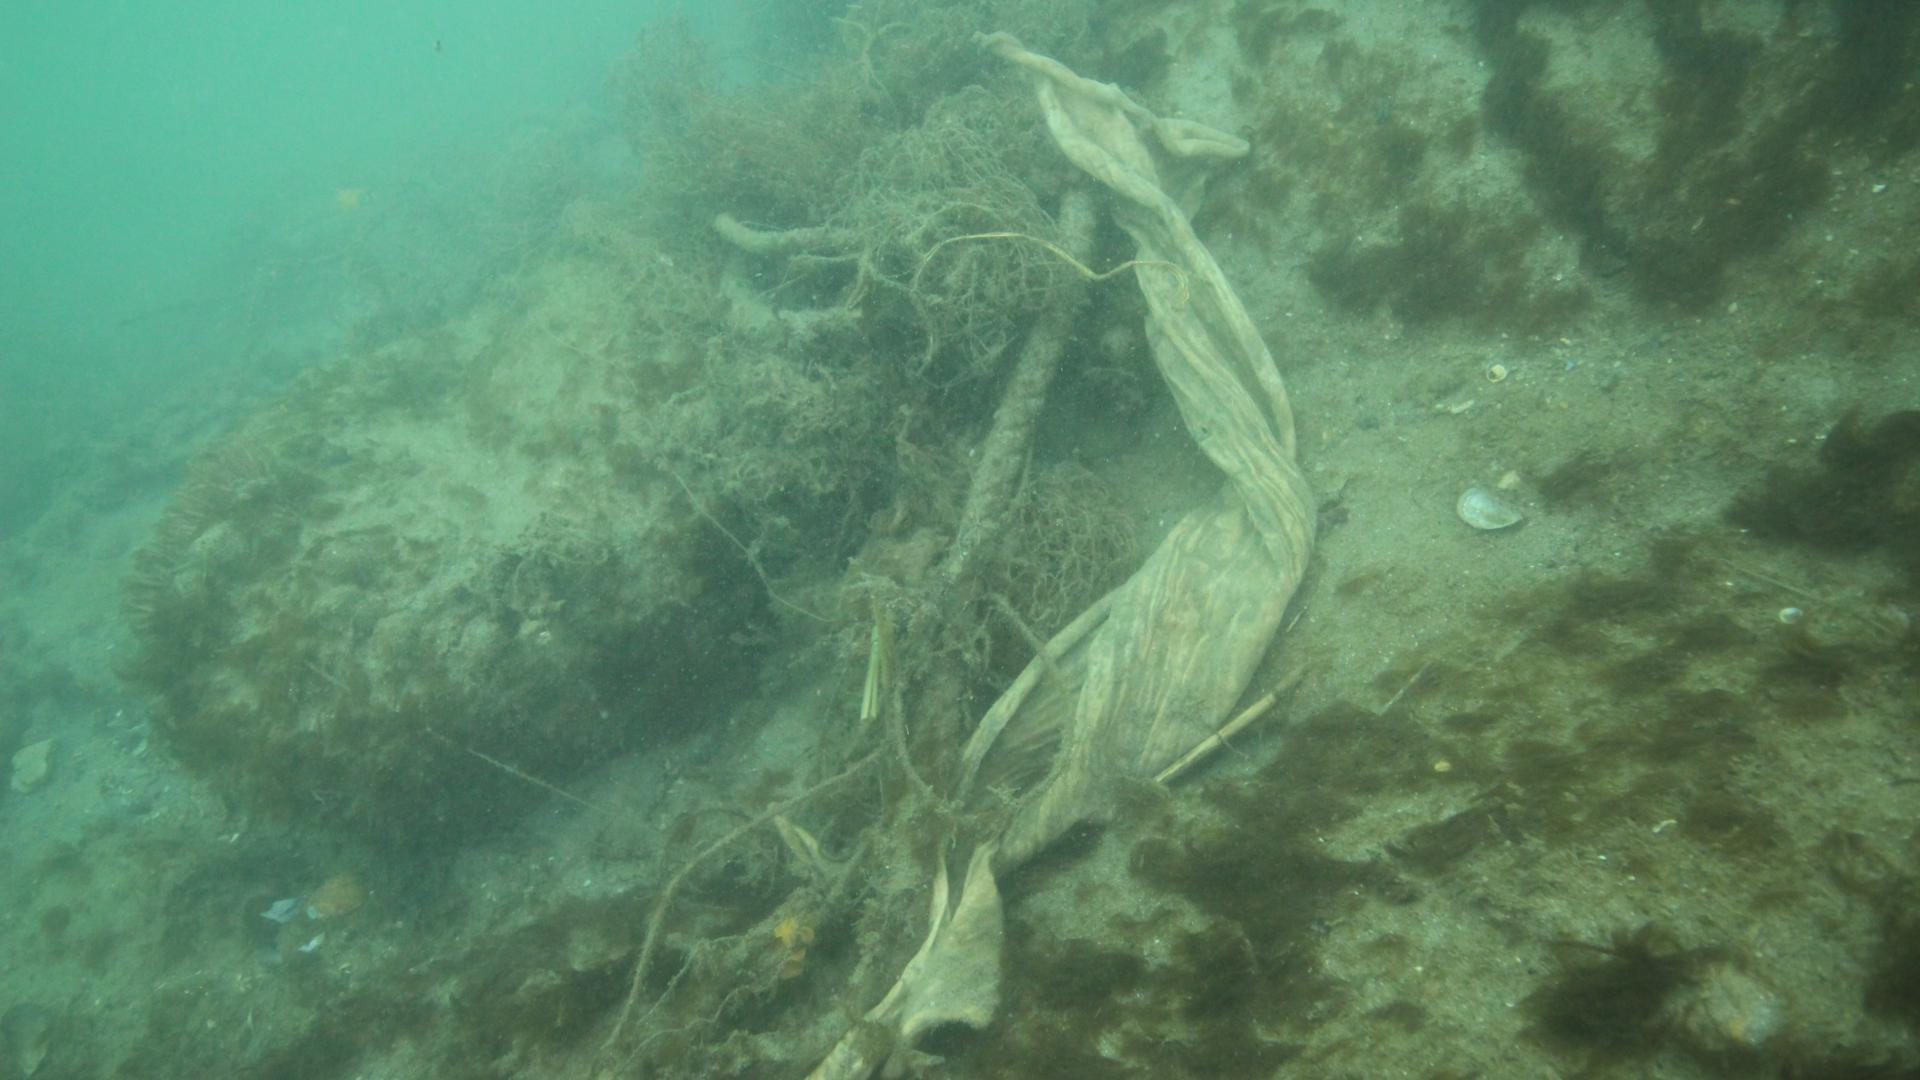rope: (712, 189, 1100, 1076)
